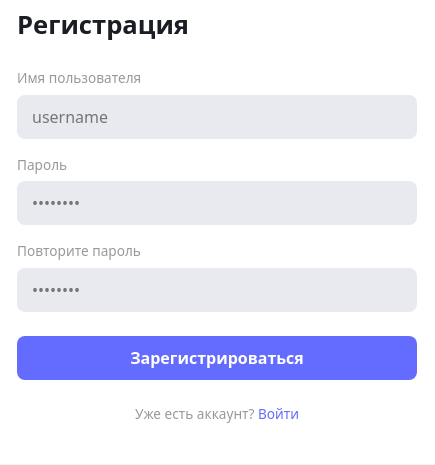
Scenario: SignUpPage › shows password error from API response
Type "alice" into the field with placeholder "username" at (217, 117), box 17,95 -> 417,139
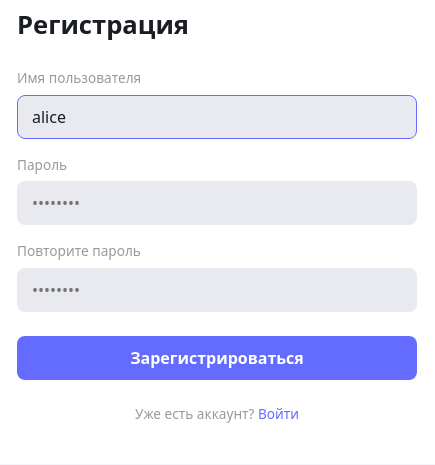
Type "123" into the 1st password field with placeholder "••••••••" at (217, 203), box 17,181 -> 417,225
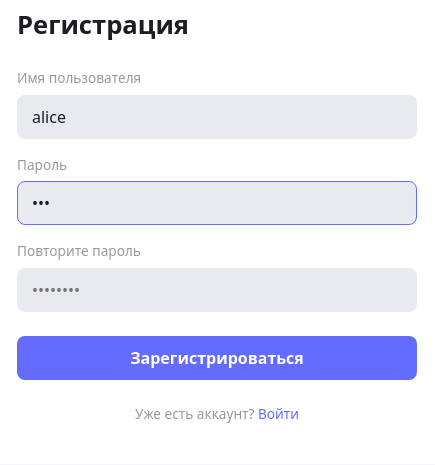
Type "123" into the password field with placeholder "••••••••" at (217, 290), box 17,268 -> 417,312
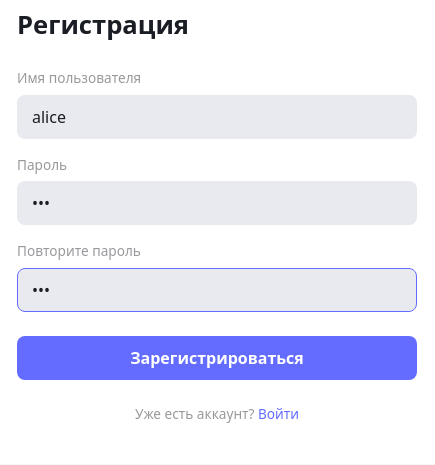
Click the button "Зарегистрироваться" at (217, 358), box 17,336 -> 417,380
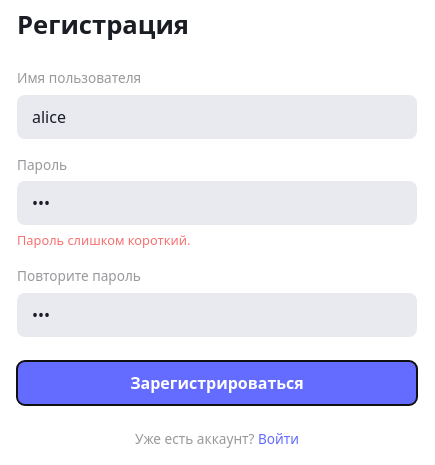
Expected: the text "Пароль слишком короткий." is shown, 17,231 -> 190,249
